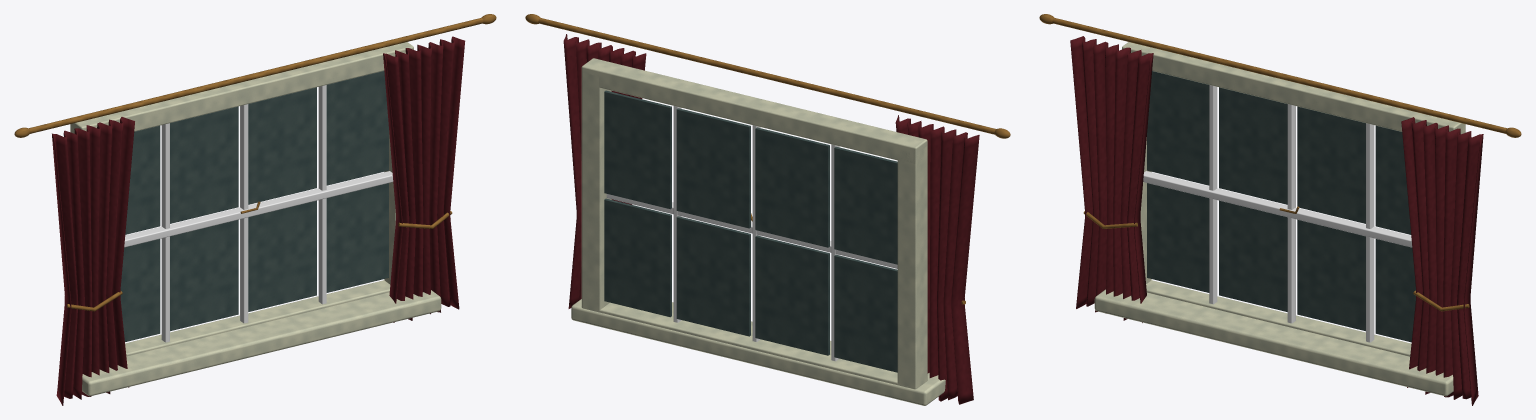
Rendered from SashWindow.fbx.
3 renders of one model, left to right at view 1: azimuth 30°, elevation 25°; view 2: azimuth 150°, elevation 25°; view 3: azimuth 330°, elevation 25°, orthographic.
Visible parts, largest first — view 1: SashWindow_GlassPatina, SashWindow_BurgundyFabric, SashWindow_Enamel, SashWindow_Walnut, SashWindow_Brass; view 2: SashWindow_GlassPatina, SashWindow_Enamel, SashWindow_BurgundyFabric, SashWindow_Walnut, SashWindow_Brass; view 3: SashWindow_GlassPatina, SashWindow_BurgundyFabric, SashWindow_Enamel, SashWindow_Walnut, SashWindow_Brass.
Boxes of the visible parts, left/top/right/bottom form: SashWindow_GlassPatina: left=120, top=71, right=388, bottom=341; SashWindow_BurgundyFabric: left=52, top=36, right=465, bottom=405; SashWindow_Enamel: left=70, top=42, right=441, bottom=396; SashWindow_Walnut: left=124, top=85, right=393, bottom=342; SashWindow_Brass: left=14, top=14, right=496, bottom=311; SashWindow_GlassPatina: left=604, top=90, right=897, bottom=372; SashWindow_Enamel: left=571, top=58, right=945, bottom=405; SashWindow_BurgundyFabric: left=563, top=34, right=979, bottom=404; SashWindow_Walnut: left=606, top=106, right=897, bottom=361; SashWindow_Brass: left=525, top=14, right=1010, bottom=304; SashWindow_GlassPatina: left=1147, top=71, right=1415, bottom=342; SashWindow_BurgundyFabric: left=1070, top=36, right=1483, bottom=405; SashWindow_Enamel: left=1094, top=42, right=1465, bottom=396; SashWindow_Walnut: left=1143, top=85, right=1412, bottom=342; SashWindow_Brass: left=1039, top=14, right=1521, bottom=311.
Size of the model in its own units: 399 by 223 by 43.
